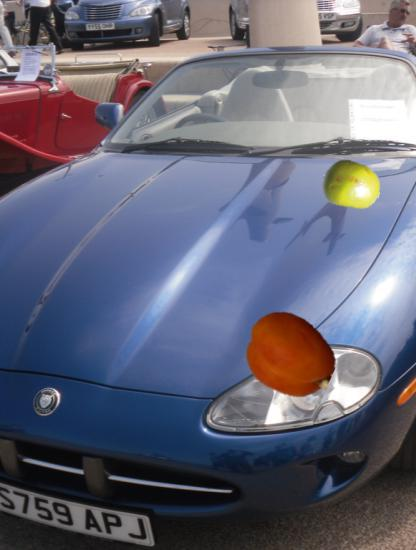Apricot: (244, 308, 338, 402)
Pomelo: (322, 156, 381, 215)
